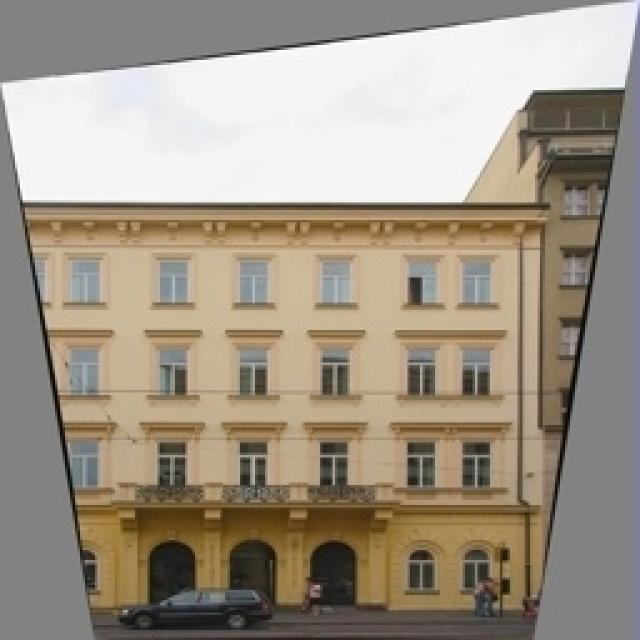building: (0, 165, 545, 613)
